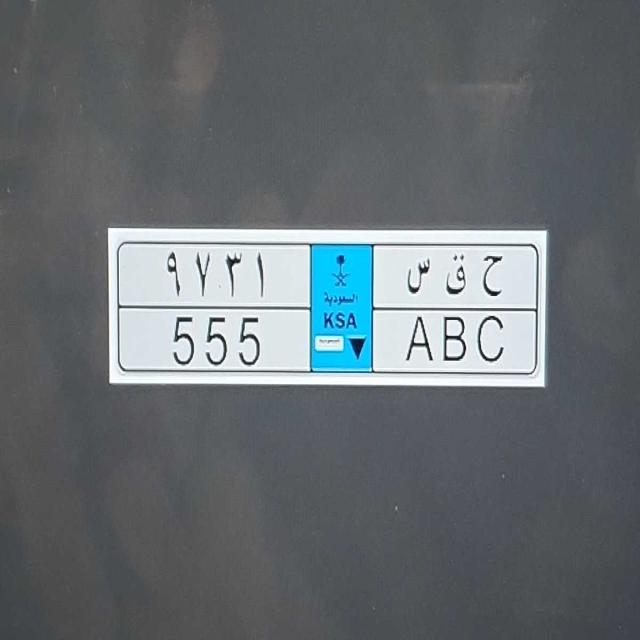license_plate: (124, 307, 527, 373)
